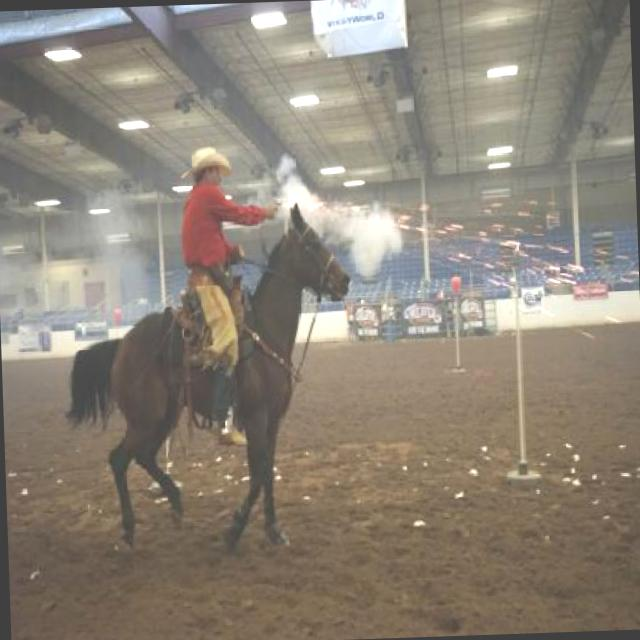Person: (174, 142, 274, 390)
